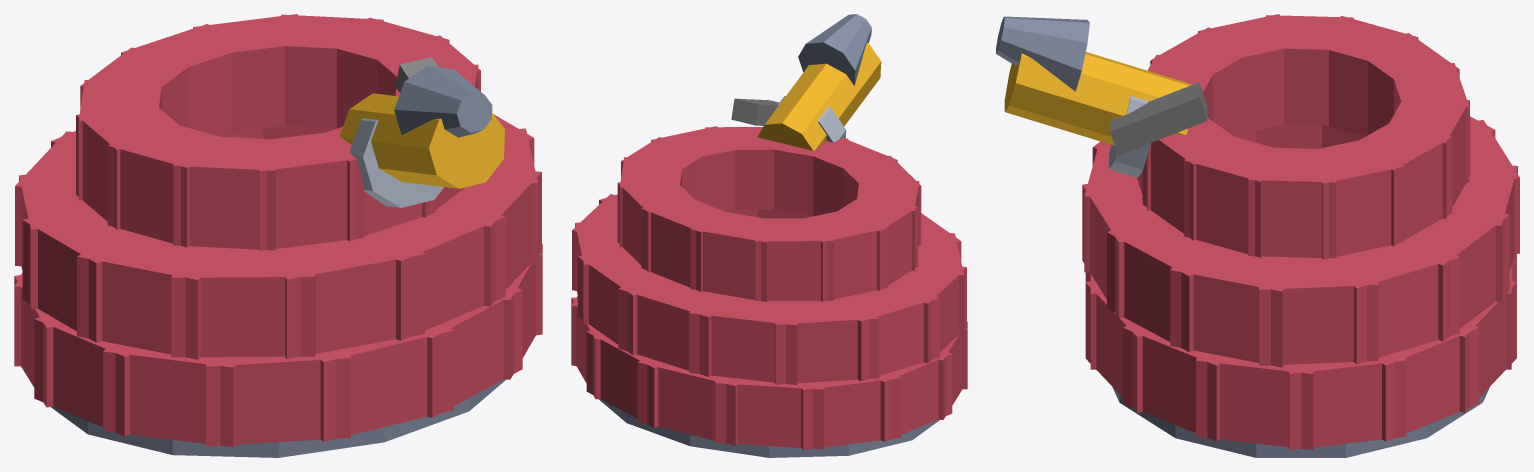
The model's file is fire_hose.glb.
3 renders of one model, left to right at view 1: azimuth 30°, elevation 25°; view 2: azimuth 150°, elevation 25°; view 3: azimuth 270°, elevation 25°, orthographic. The views are drawn at different scales.
Parts seen in each view (by area): view 1: fire_hose; view 2: fire_hose; view 3: fire_hose.
Boxes of the visible parts, left/top/right/bottom form: fire_hose: left=14, top=14, right=542, bottom=457; fire_hose: left=571, top=14, right=967, bottom=457; fire_hose: left=996, top=14, right=1519, bottom=457.
Size of the model in its own units: 0.75 by 0.5662 by 0.75.
